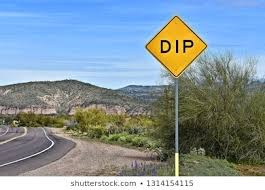dip: (142, 15, 212, 78)
